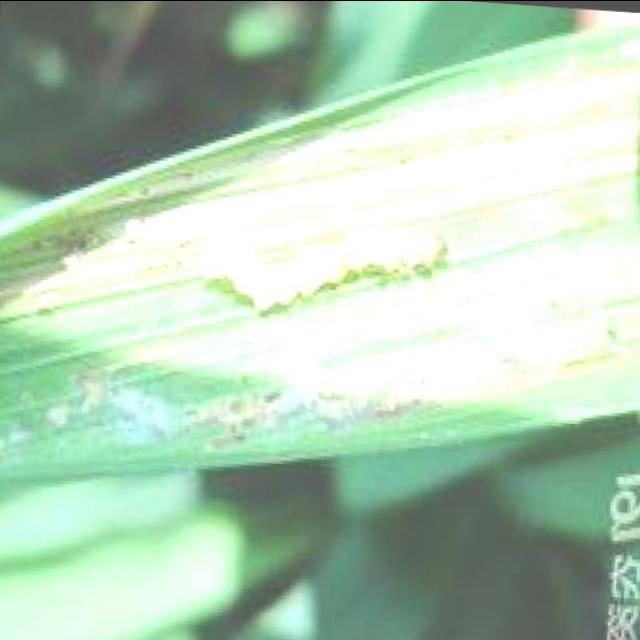leaf folder: (127, 219, 449, 311)
